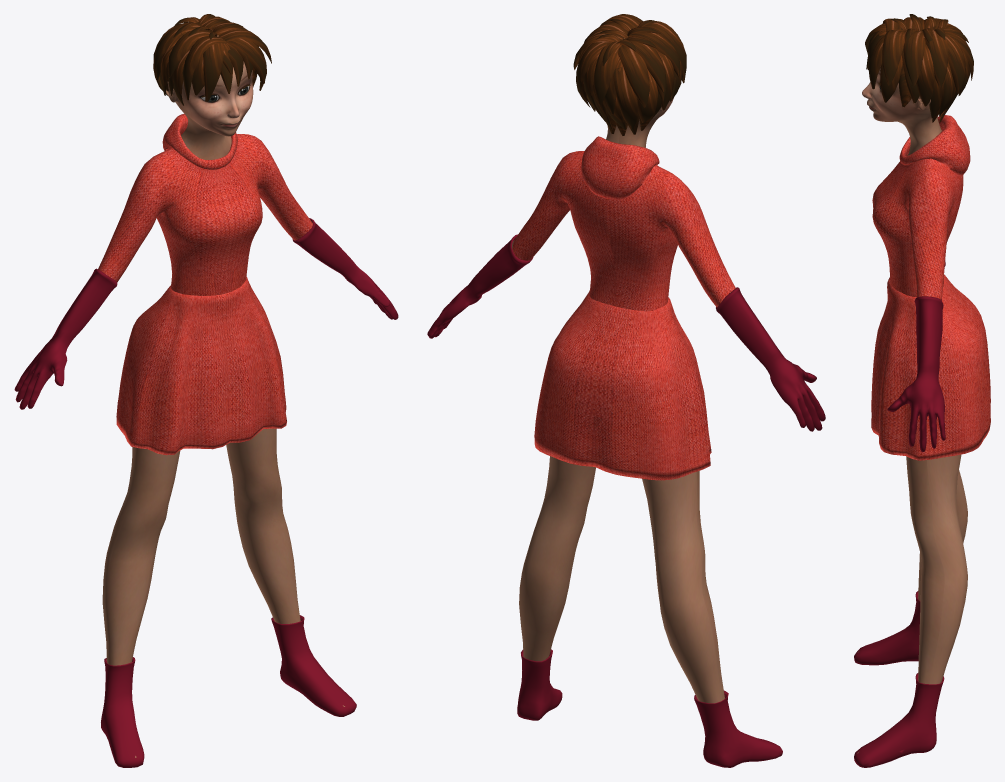
Rendered from girl.obj.
The picture shows the model from 3 angles, left to right: view 1: azimuth 30°, elevation 25°; view 2: azimuth 150°, elevation 25°; view 3: azimuth 270°, elevation 25°; orthographic projection. The views are drawn at different scales.
Visible parts, largest first — view 1: Cone001, Plane058, Plane008, Plane059, Object001, Box004, Box003, Plane021, Plane016, Plane017, Plane020; view 2: Cone001, Plane058, Plane008, Plane059, Box004, Box003, Plane019, Plane038, Plane031, Object001, Plane018; view 3: Cone001, Plane058, Plane008, Plane059, Box003, Object001, Plane015, Plane012, Plane013, Plane034, Plane014, Plane020 (+6 smaller).
Part boxes in pixels (box(x1,y1,x2,y2)): Cone001: box(116, 277, 286, 455); Plane058: box(98, 113, 312, 295); Plane008: box(102, 428, 344, 757); Plane059: box(101, 615, 356, 767); Object001: box(166, 35, 253, 159); Box004: box(14, 268, 117, 409); Box003: box(292, 218, 398, 319); Plane021: box(203, 43, 223, 101); Plane016: box(182, 36, 226, 100); Plane017: box(168, 29, 211, 77); Plane020: box(226, 38, 265, 83); Cone001: box(534, 291, 711, 480); Plane058: box(512, 136, 735, 311); Plane008: box(512, 240, 730, 703); Plane059: box(517, 649, 782, 767); Box004: box(716, 287, 825, 431); Box003: box(427, 234, 533, 338); Plane019: box(617, 45, 649, 107); Plane038: box(613, 67, 638, 128); Plane031: box(594, 43, 621, 104); Object001: box(606, 38, 673, 147); Plane018: box(620, 37, 665, 92); Cone001: box(871, 274, 990, 460); Plane058: box(872, 115, 970, 300); Plane008: box(857, 154, 968, 753); Plane059: box(854, 591, 944, 767); Box003: box(887, 296, 945, 452); Object001: box(862, 37, 941, 155); Plane015: box(882, 30, 904, 85); Plane012: box(903, 31, 924, 85); Plane013: box(922, 29, 948, 87); Plane034: box(916, 43, 934, 106); Plane014: box(945, 35, 965, 93); Plane020: box(868, 36, 884, 89).
Size of the model in its own units: 79.68 by 141 by 25.41.
